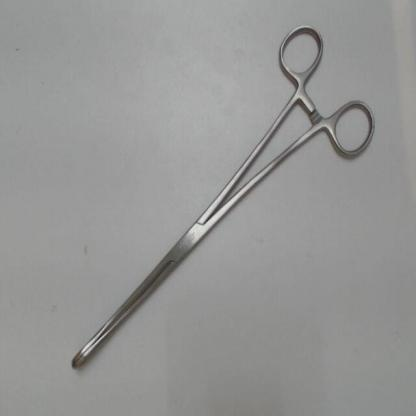Sponge Forceps: (66, 16, 380, 380)
